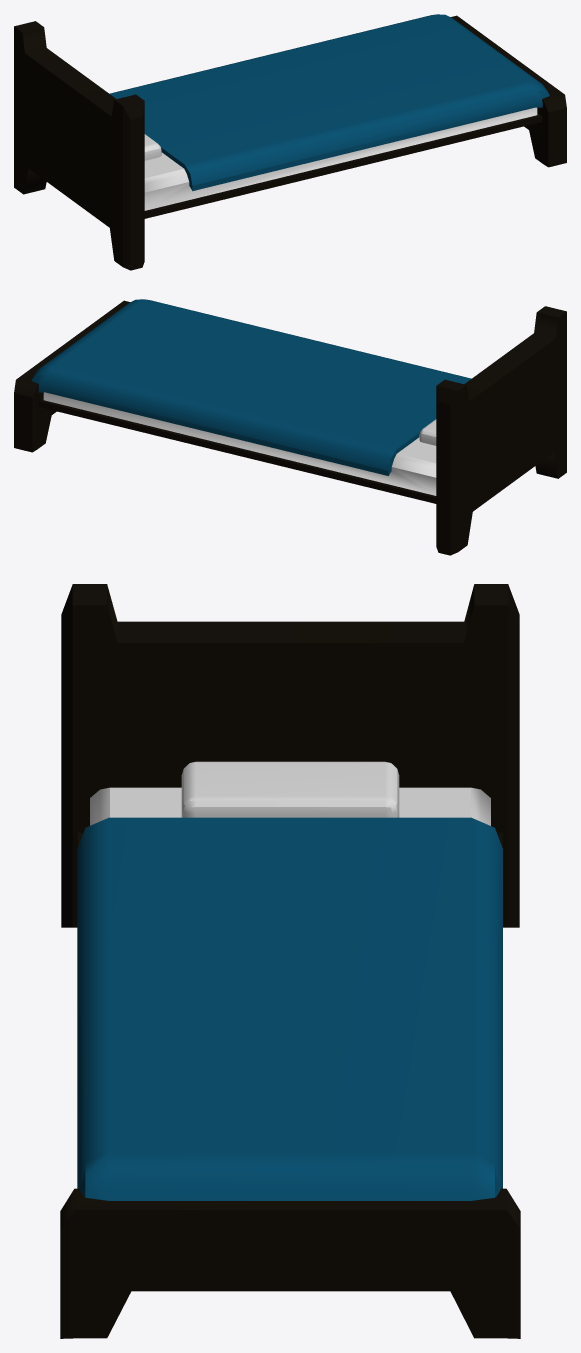
Rendered from Bed_Standin.fbx.
3 renders of one model, top to bottom at view 1: azimuth 30°, elevation 25°; view 2: azimuth 150°, elevation 25°; view 3: azimuth 270°, elevation 25°, orthographic. The views are drawn at different scales.
Visible parts, largest first — view 1: pCube9; view 2: pCube9; view 3: pCube9.
Boxes of the visible parts, x1,y1,x2,y2 form: pCube9: [14, 14, 566, 270]; pCube9: [14, 299, 566, 555]; pCube9: [60, 584, 520, 1338].
Bounding box in the file's own units: 4.46 × 1.58 × 2.01.
